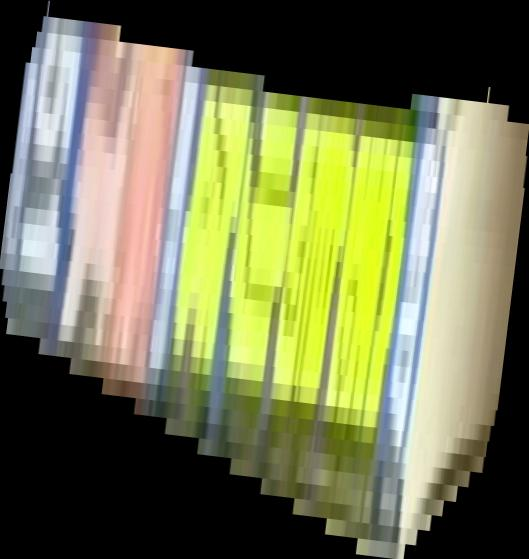flat: (1, 1, 529, 559)
